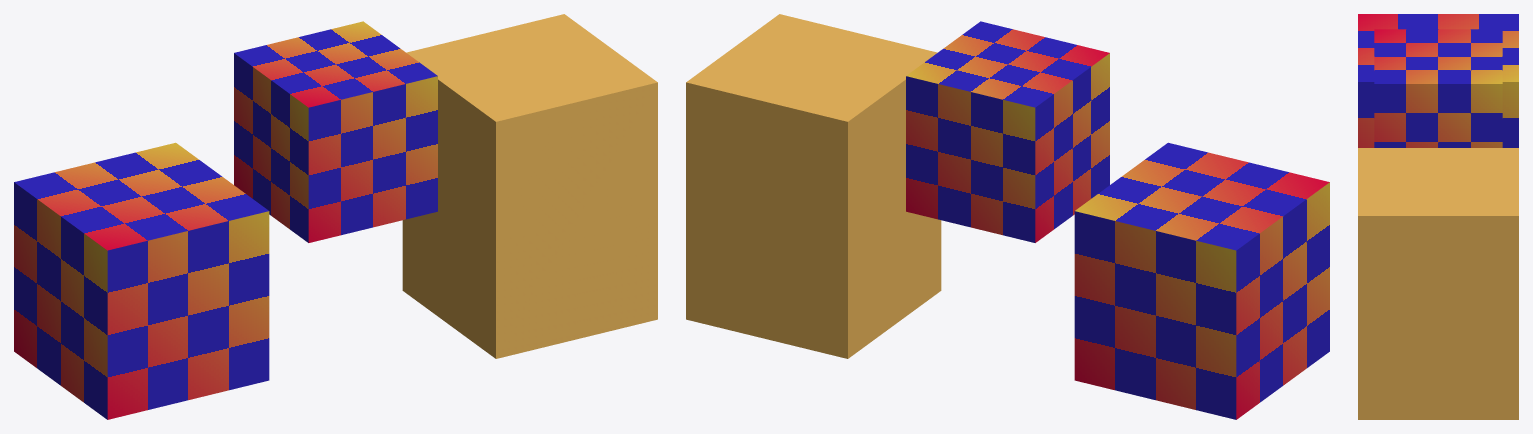
The model's file is multimat.glb.
3 views of the same model, side by side, from view 1: azimuth 30°, elevation 25°; view 2: azimuth 150°, elevation 25°; view 3: azimuth 270°, elevation 25° (orthographic). The views are drawn at different scales.
Visible parts, largest first — view 1: plain_c, textured_a, textured_b; view 2: plain_c, textured_a, textured_b; view 3: plain_c, textured_b, textured_a.
Part boxes in pixels (left/top/right/bottom): plain_c: left=402, top=14, right=657, bottom=358; textured_a: left=14, top=142, right=269, bottom=419; textured_b: left=234, top=21, right=437, bottom=242; plain_c: left=686, top=14, right=941, bottom=358; textured_a: left=1074, top=142, right=1329, bottom=419; textured_b: left=906, top=21, right=1109, bottom=242; plain_c: left=1358, top=148, right=1518, bottom=419; textured_b: left=1374, top=29, right=1502, bottom=147; textured_a: left=1358, top=14, right=1518, bottom=147.
Size of the model in its own units: 3.4 by 1.7 by 1.
Materials: 3 (2 with a texture image).
